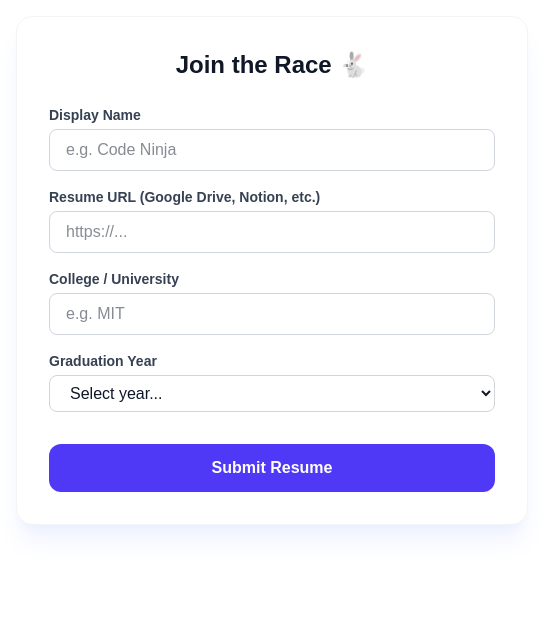
Test: SubmitForm Component › shows error on invalid URL
Type "John" into the field labelled "Display Name" at (272, 150), box [49,129,495,171]
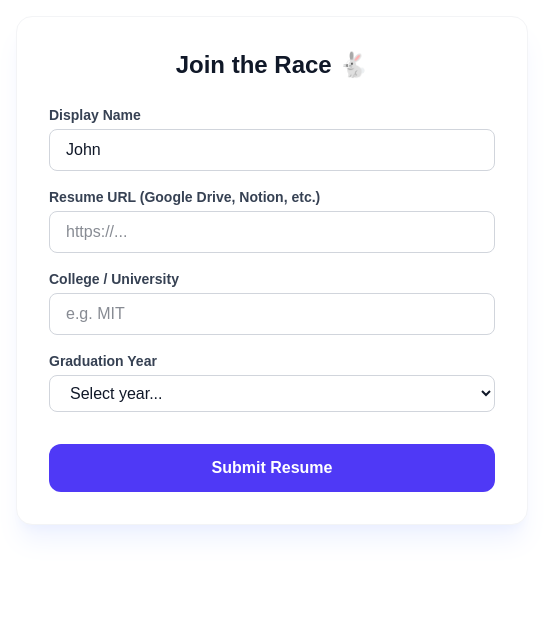
Type "not-a-url" into the field labelled "Resume URL (Google Drive, Notion, etc.)" at (272, 232), box [49,211,495,253]
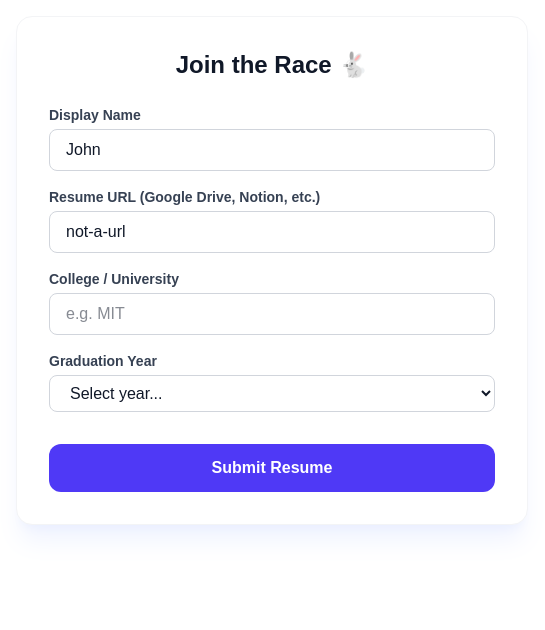
Type "MIT" into the field labelled "College / University" at (272, 314), box [49,293,495,335]
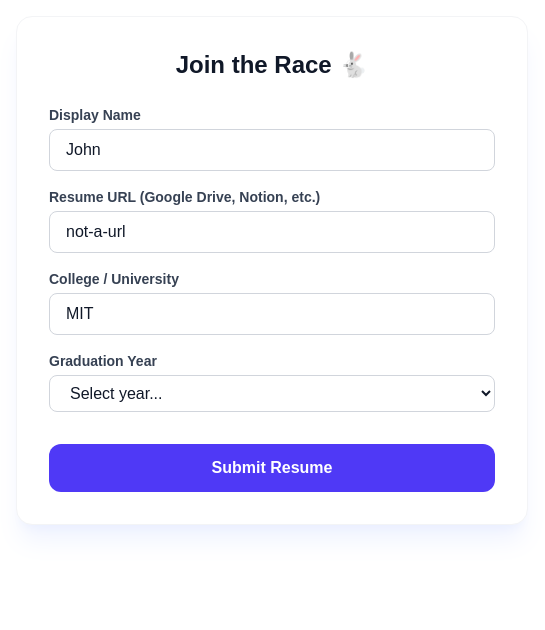
Select "2025" in the dropdown labelled "Graduation Year" at (272, 394), box [49,375,495,412]
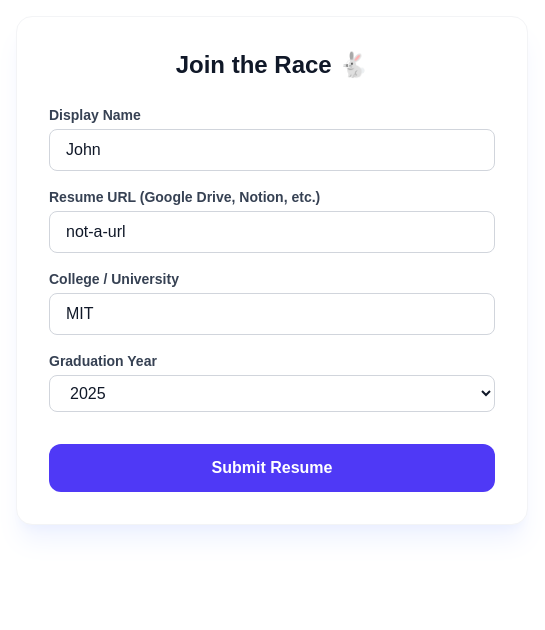
Submit the form named "Submit Resume"
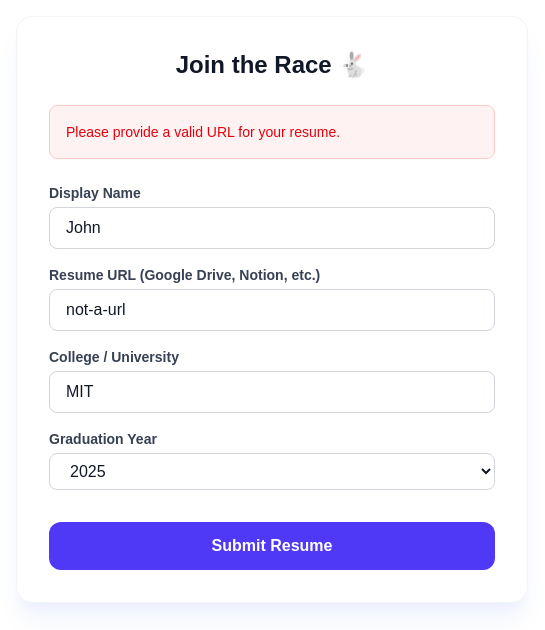
Result: the text "Please provide a valid URL for your resume." is shown at [49,105,495,159]
